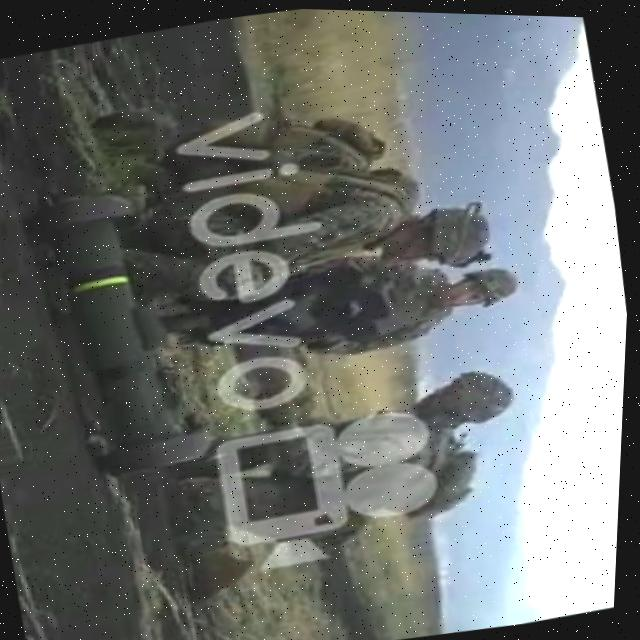rocket: (42, 173, 227, 480)
